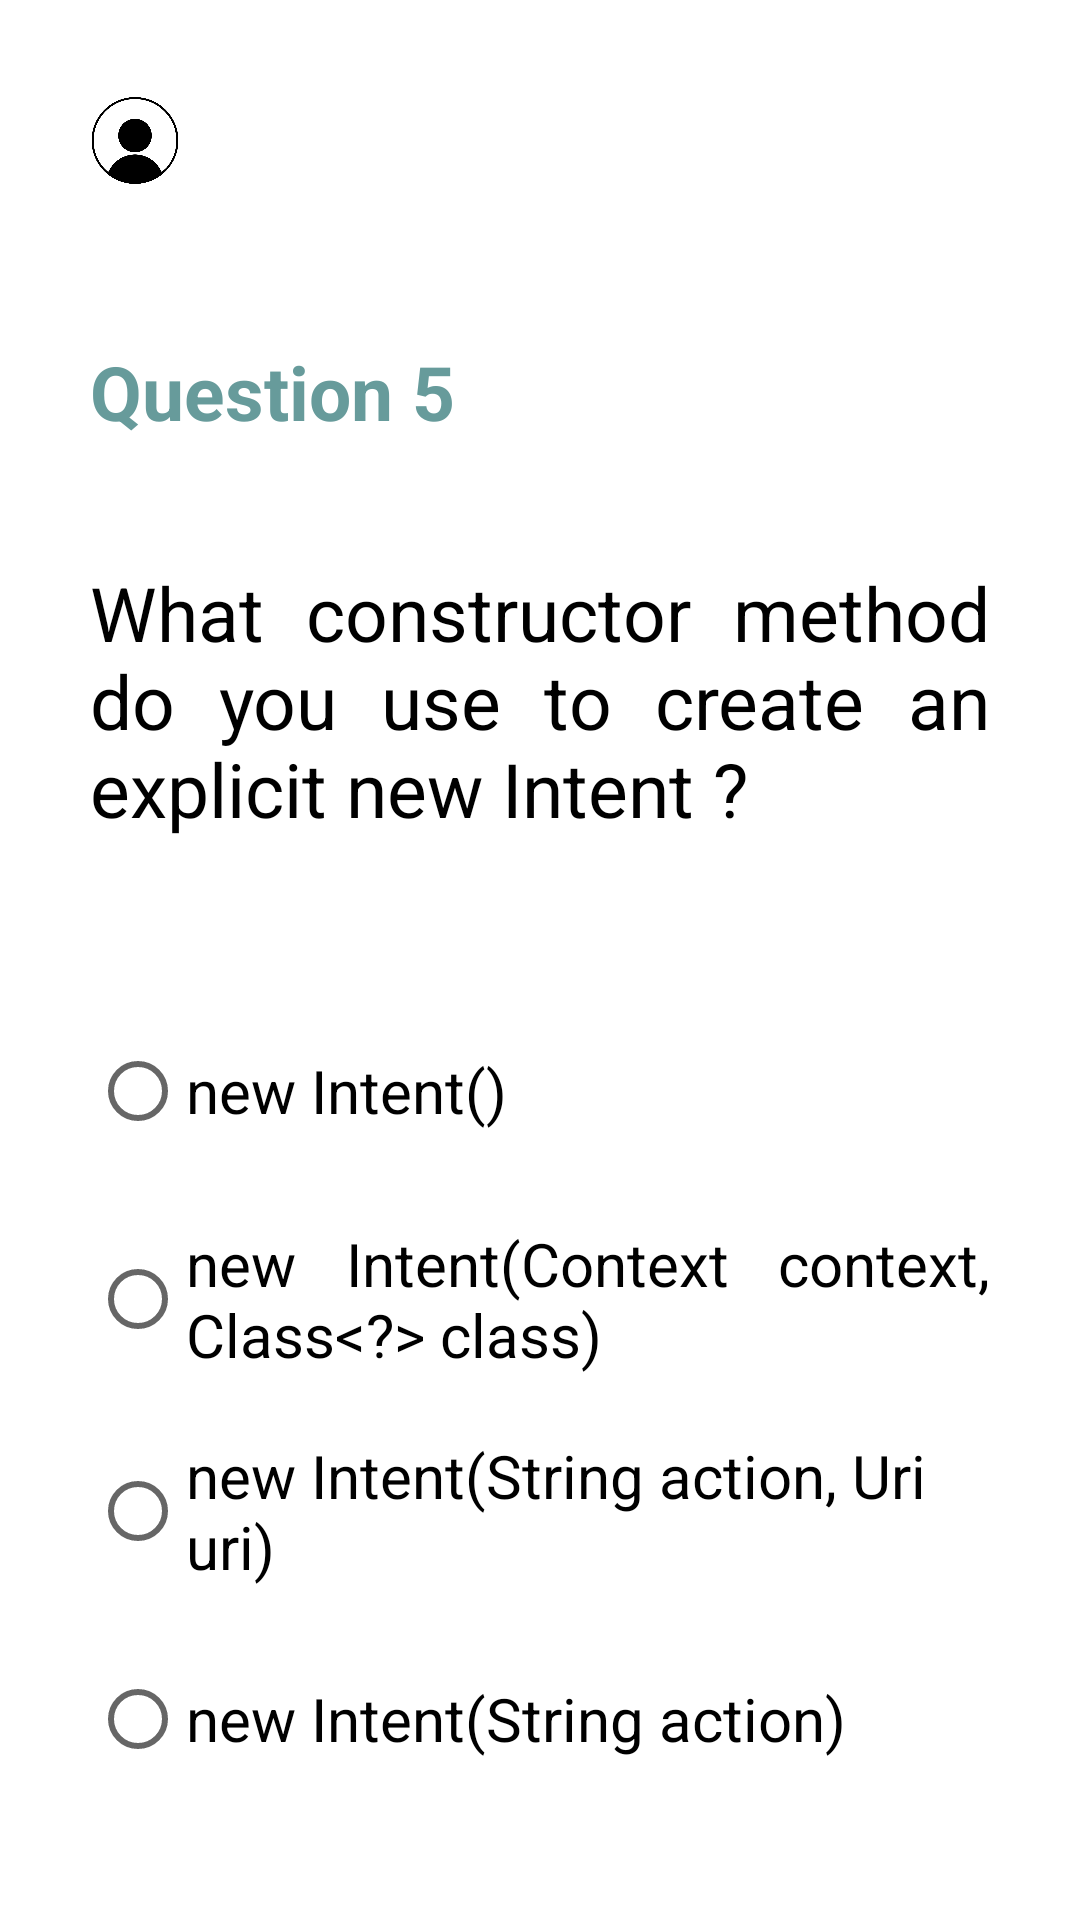

Named icons in this screenshot (1080*1920) and their centers, point (x, y):
profil: point (135, 140)
